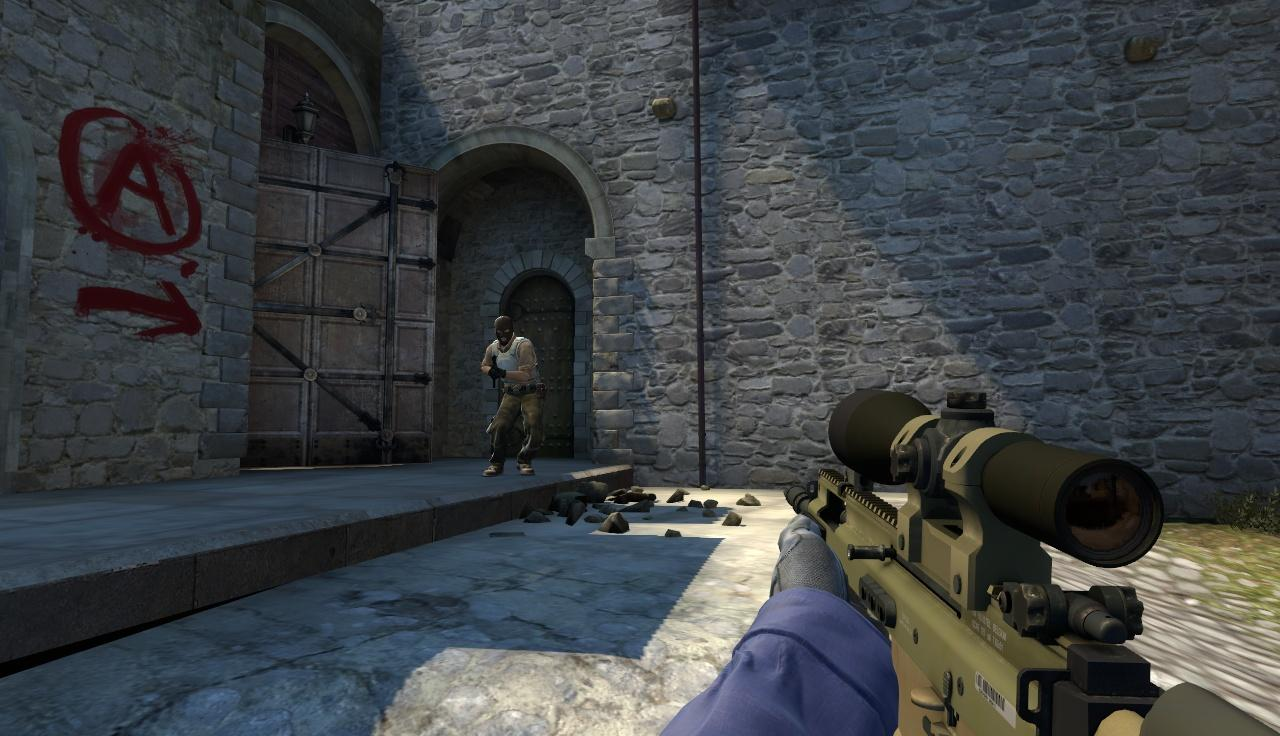sniper: (781, 388, 1280, 736)
tt: (488, 316, 540, 474)
tthead: (495, 317, 513, 346)
